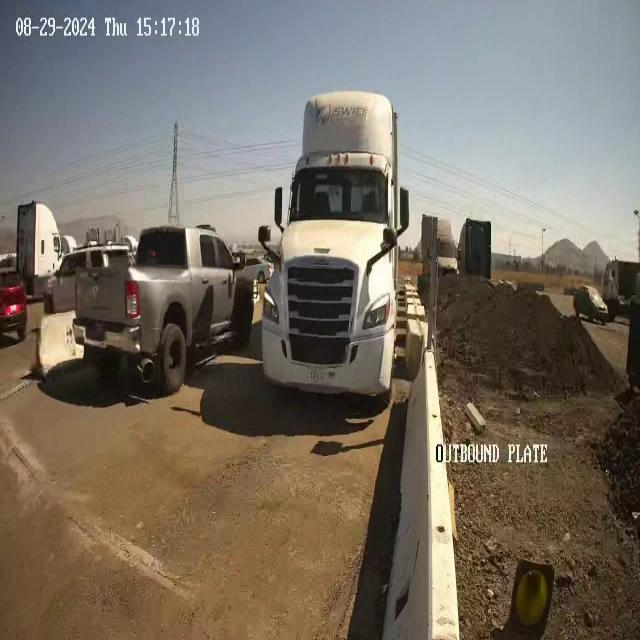TRUCK_IN: (258, 89, 409, 401)
